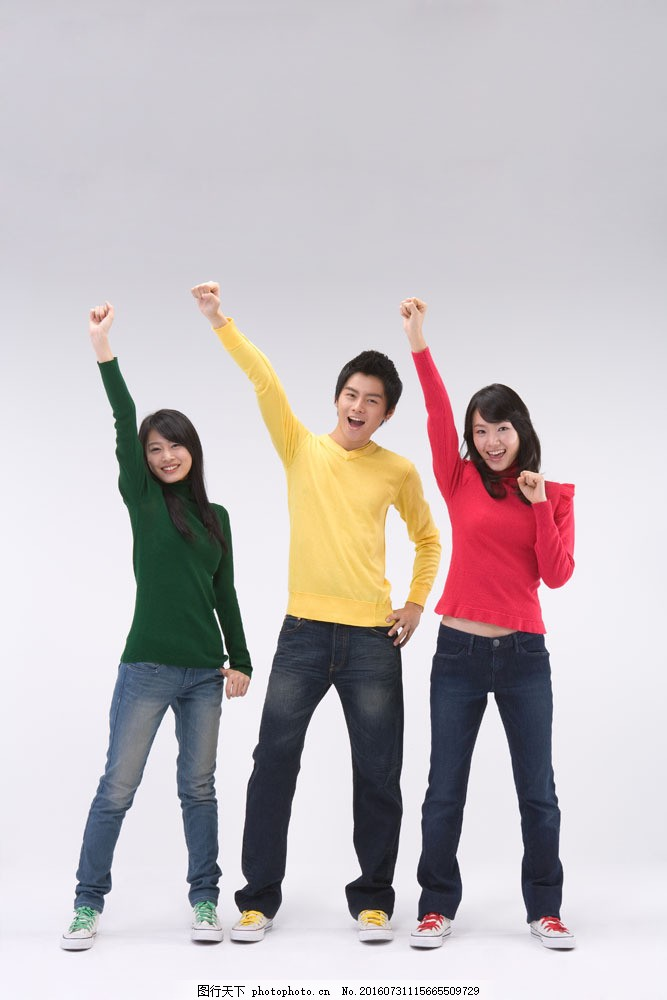handsup: (186, 256, 416, 962), (394, 285, 617, 982), (56, 276, 263, 968)
